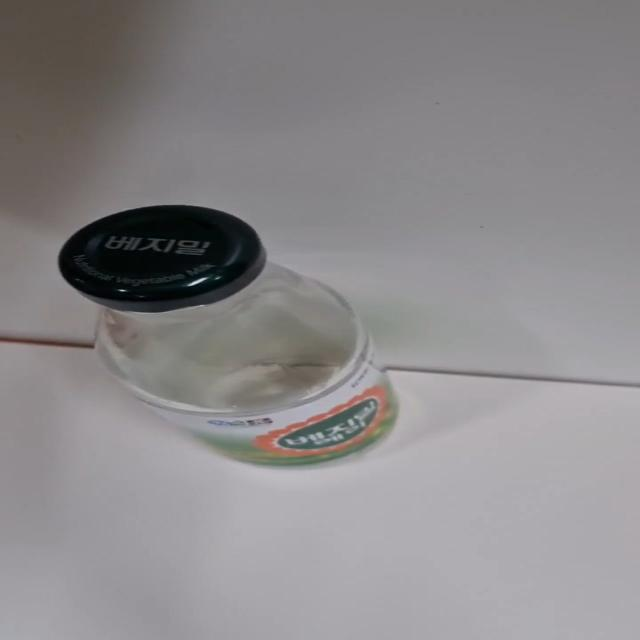Glass: (56, 200, 407, 468)
